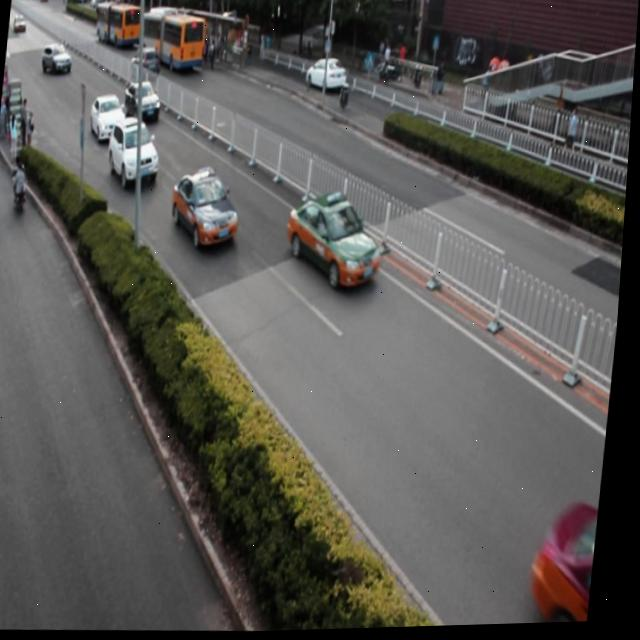car: (284, 188, 389, 297), (535, 504, 606, 627), (170, 166, 246, 253), (107, 118, 166, 191), (90, 93, 129, 147), (124, 80, 163, 124), (305, 56, 349, 94), (129, 46, 162, 85)
van: (137, 6, 208, 74)
